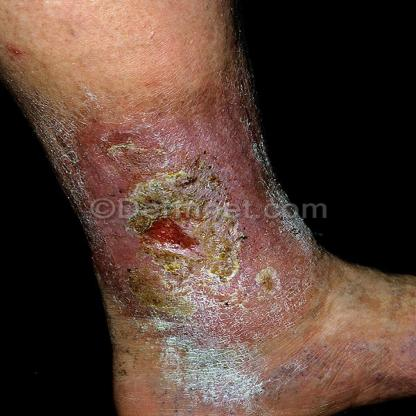Eczema: (103, 226, 316, 410), (74, 106, 248, 198)
